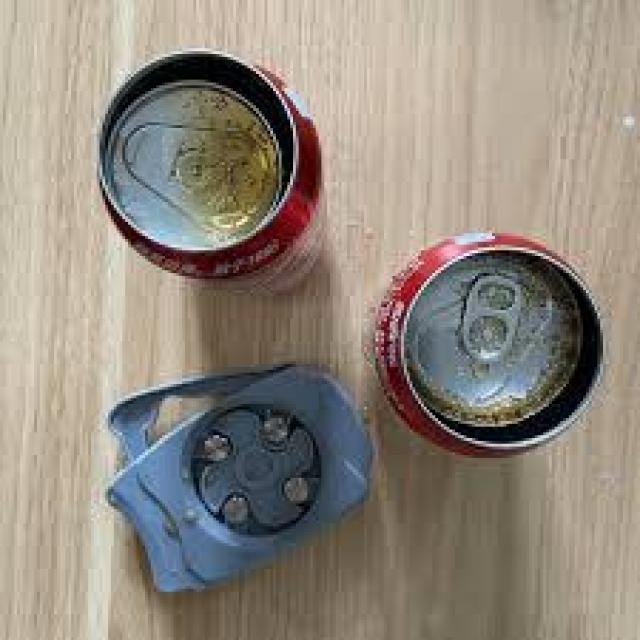recyclable: (97, 46, 327, 297), (376, 230, 606, 458)
